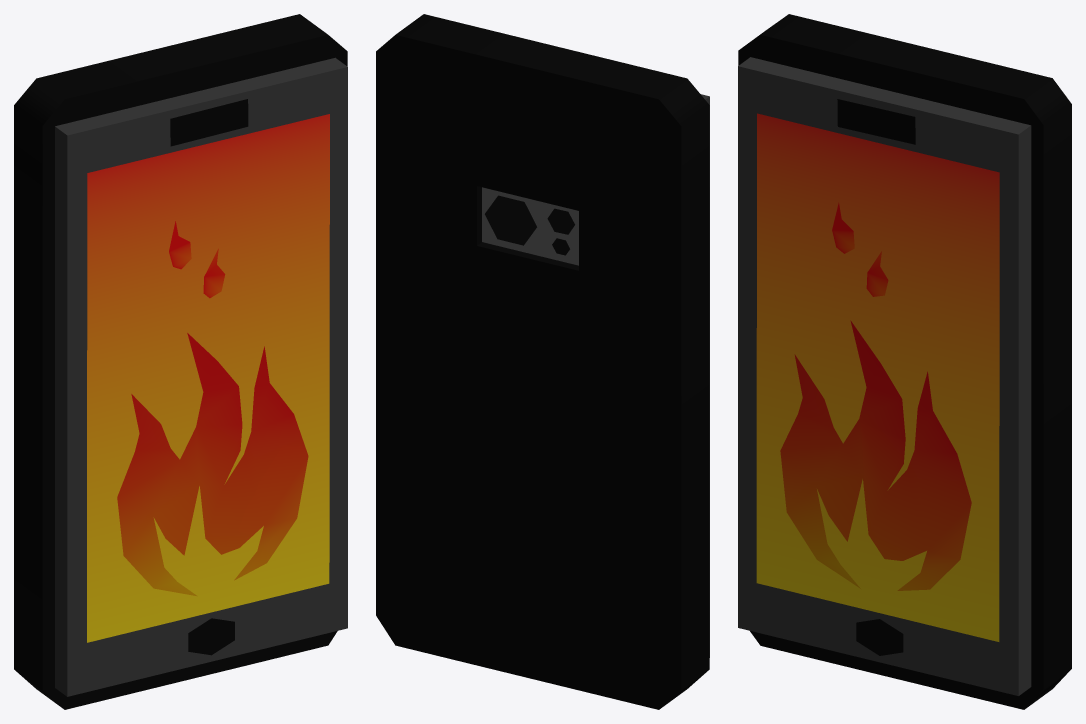
File: grenade_Phone.glb
The picture shows the model from 3 angles, left to right: view 1: azimuth 30°, elevation 25°; view 2: azimuth 150°, elevation 25°; view 3: azimuth 330°, elevation 25°; orthographic projection.
Visible parts, largest first — view 1: grenade_Phone; view 2: grenade_Phone; view 3: grenade_Phone.
Part boxes in pixels (x1=…): grenade_Phone: x1=14, y1=14, x2=347, y2=709; grenade_Phone: x1=376, y1=14, x2=709, y2=709; grenade_Phone: x1=738, y1=14, x2=1071, y2=709.
Size of the model in its own units: 0.0876 by 0.1675 by 0.0222.
